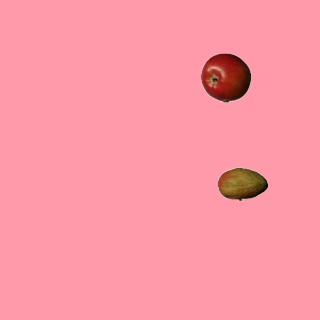Apple Braeburn: (200, 52, 250, 102)
Papaya: (217, 159, 267, 209)
